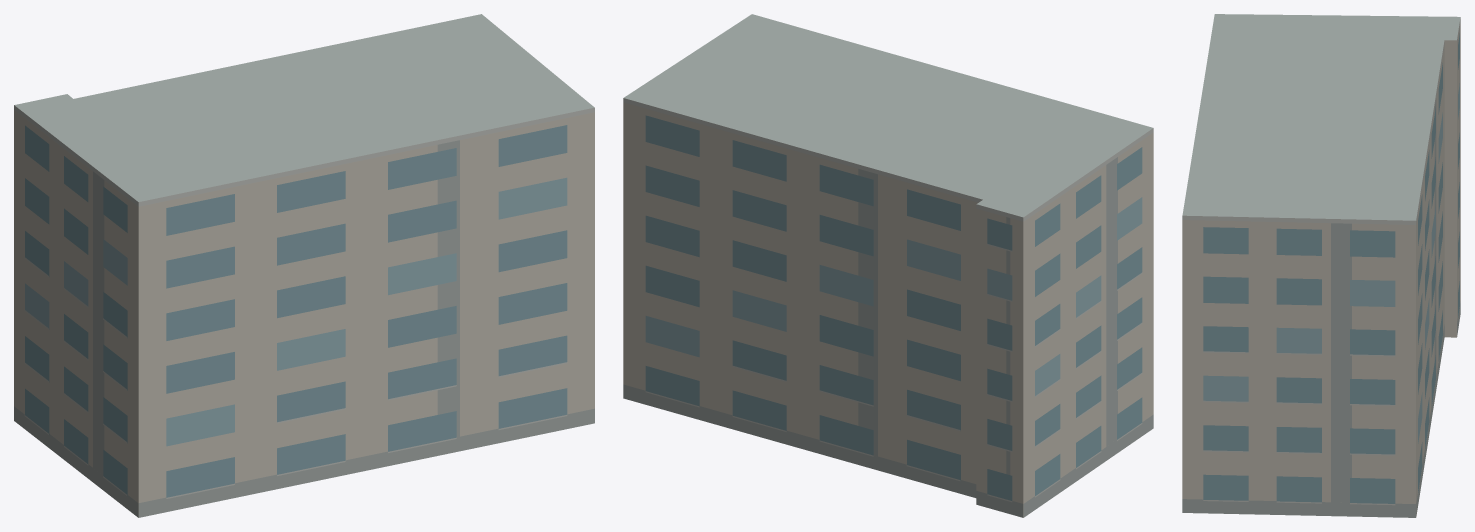
Rendered from survey-upis-32479397.glb.
3 renders of one model, left to right at view 1: azimuth 30°, elevation 25°; view 2: azimuth 150°, elevation 25°; view 3: azimuth 270°, elevation 25°, orthographic. The views are drawn at different scales.
Parts seen in each view (by area): view 1: survey-upis-32479397.tmp; view 2: survey-upis-32479397.tmp; view 3: survey-upis-32479397.tmp.
Boxes of the visible parts, x1,y1,x2,y2 form: survey-upis-32479397.tmp: (14, 14, 594, 517); survey-upis-32479397.tmp: (623, 14, 1153, 517); survey-upis-32479397.tmp: (1182, 14, 1460, 517).
Size of the model in its own units: 25.15 by 16.85 by 14.3.
